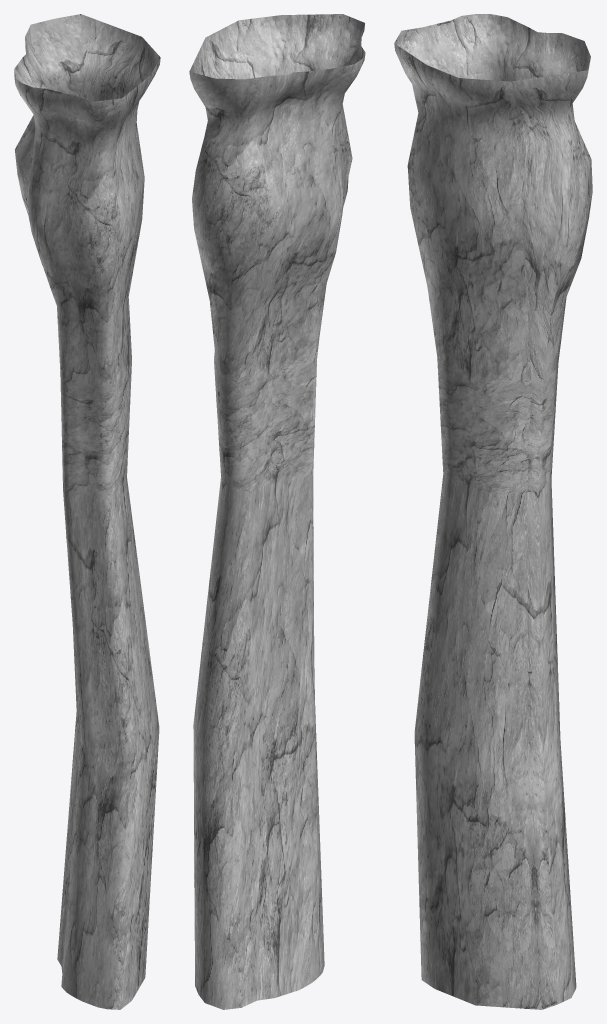
The model's file is Cliff_02.fbx.
3 views of the same model, side by side, from view 1: azimuth 30°, elevation 25°; view 2: azimuth 150°, elevation 25°; view 3: azimuth 270°, elevation 25° (orthographic).
Parts seen in each view (by area): view 1: Cliff_02; view 2: Cliff_02; view 3: Cliff_02.
Part boxes in pixels (left/top/right/bottom): Cliff_02: left=14, top=14, right=160, bottom=1009; Cliff_02: left=189, top=14, right=365, bottom=1009; Cliff_02: left=394, top=14, right=592, bottom=1009.
Size of the model in its own units: 13413 by 84622 by 16250.
